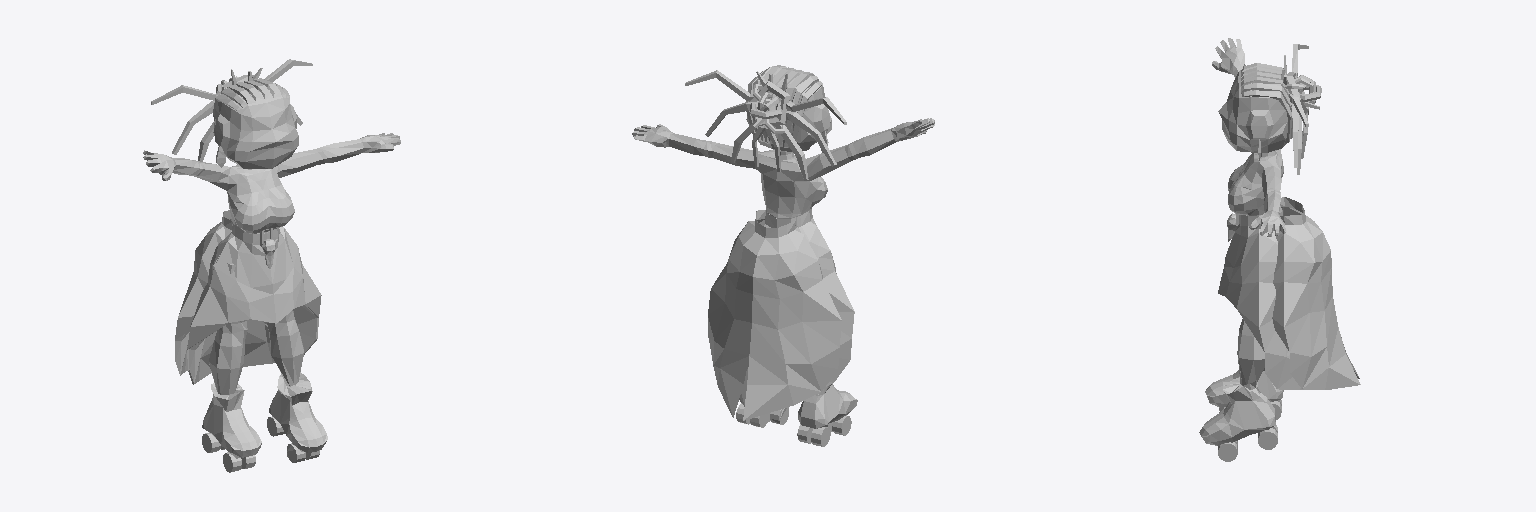
Rendered from WitchFINAL2_000058.obj.
3 renders of one model, left to right at view 1: azimuth 30°, elevation 25°; view 2: azimuth 150°, elevation 25°; view 3: azimuth 270°, elevation 25°, orthographic.
Visible parts, largest first — view 1: Body_Cylinder, Torso(Boobies)_Cylinder.002, LegR_Cube.004, LegL_Cube.003, Head_Cylinder.004, ZBody_Cylinder.001, Hair_Cylinder.006, Tail.001_Torus.001; view 2: ZBody_Cylinder.001, Torso(Boobies)_Cylinder.002, Body_Cylinder, LegR_Cube.004, Hair_Cylinder.006, Tail.001_Torus.001, Tail_Torus, Tail.002_Torus.002, Head_Cylinder.004, LegL_Cube.003; view 3: ZBody_Cylinder.001, Body_Cylinder, LegL_Cube.003, Torso(Boobies)_Cylinder.002, Head_Cylinder.004, Hair_Cylinder.006, LegR_Cube.004, Tail_Torus, Tail.002_Torus.002.
Part boxes in pixels (bbox=[...]): Body_Cylinder: bbox=[187, 224, 321, 384]; Torso(Boobies)_Cylinder.002: bbox=[143, 133, 400, 233]; LegR_Cube.004: bbox=[202, 263, 261, 472]; LegL_Cube.003: bbox=[267, 310, 327, 462]; Head_Cylinder.004: bbox=[213, 83, 298, 168]; ZBody_Cylinder.001: bbox=[175, 210, 232, 375]; Hair_Cylinder.006: bbox=[213, 78, 289, 120]; Tail.001_Torus.001: bbox=[151, 85, 220, 161]; ZBody_Cylinder.001: bbox=[708, 210, 841, 420]; Torso(Boobies)_Cylinder.002: bbox=[632, 118, 934, 218]; Body_Cylinder: bbox=[740, 209, 854, 406]; LegR_Cube.004: bbox=[797, 384, 857, 446]; Hair_Cylinder.006: bbox=[746, 65, 822, 147]; Tail.001_Torus.001: bbox=[765, 97, 846, 180]; Tail_Torus: bbox=[750, 71, 789, 133]; Tail.002_Torus.002: bbox=[685, 70, 764, 166]; Head_Cylinder.004: bbox=[746, 73, 831, 152]; LegL_Cube.003: bbox=[736, 398, 788, 427]; ZBody_Cylinder.001: bbox=[1272, 197, 1360, 389]; Body_Cylinder: bbox=[1218, 210, 1303, 389]; LegL_Cube.003: bbox=[1199, 319, 1277, 461]; Torso(Boobies)_Cylinder.002: bbox=[1212, 38, 1286, 236]; Head_Cylinder.004: bbox=[1218, 70, 1289, 152]; Hair_Cylinder.006: bbox=[1241, 63, 1292, 142]; LegR_Cube.004: bbox=[1205, 368, 1283, 419]; Tail_Torus: bbox=[1281, 55, 1321, 114]; Tail.002_Torus.002: bbox=[1289, 93, 1308, 174].
Bounding box in the file's own units: 12.82 × 16.8 × 6.49.